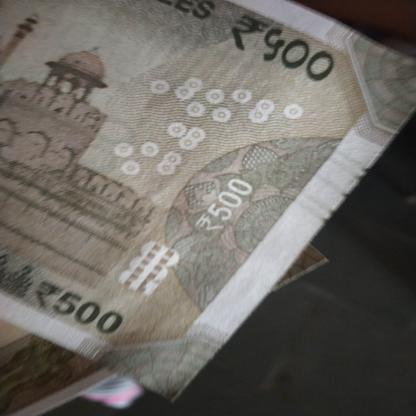New500Back: (0, 0, 363, 344)
